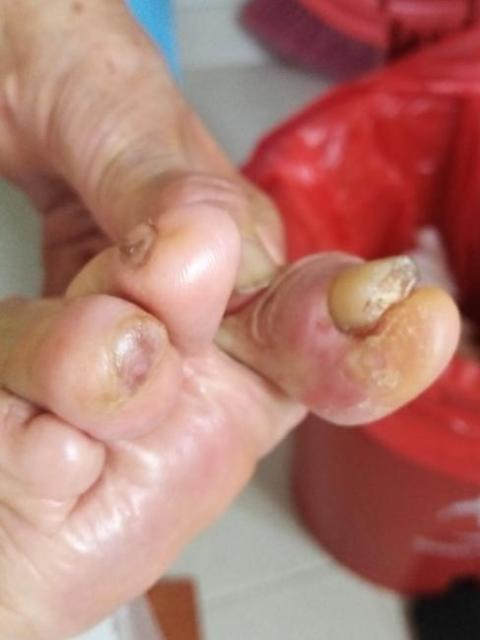wound: (261, 261, 441, 413), (109, 321, 161, 403)
